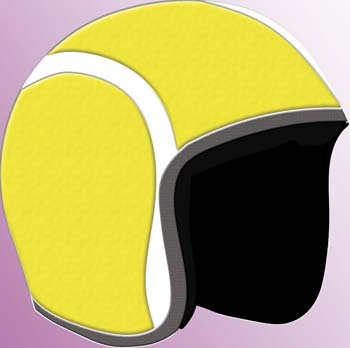helmet: (17, 5, 350, 325)
